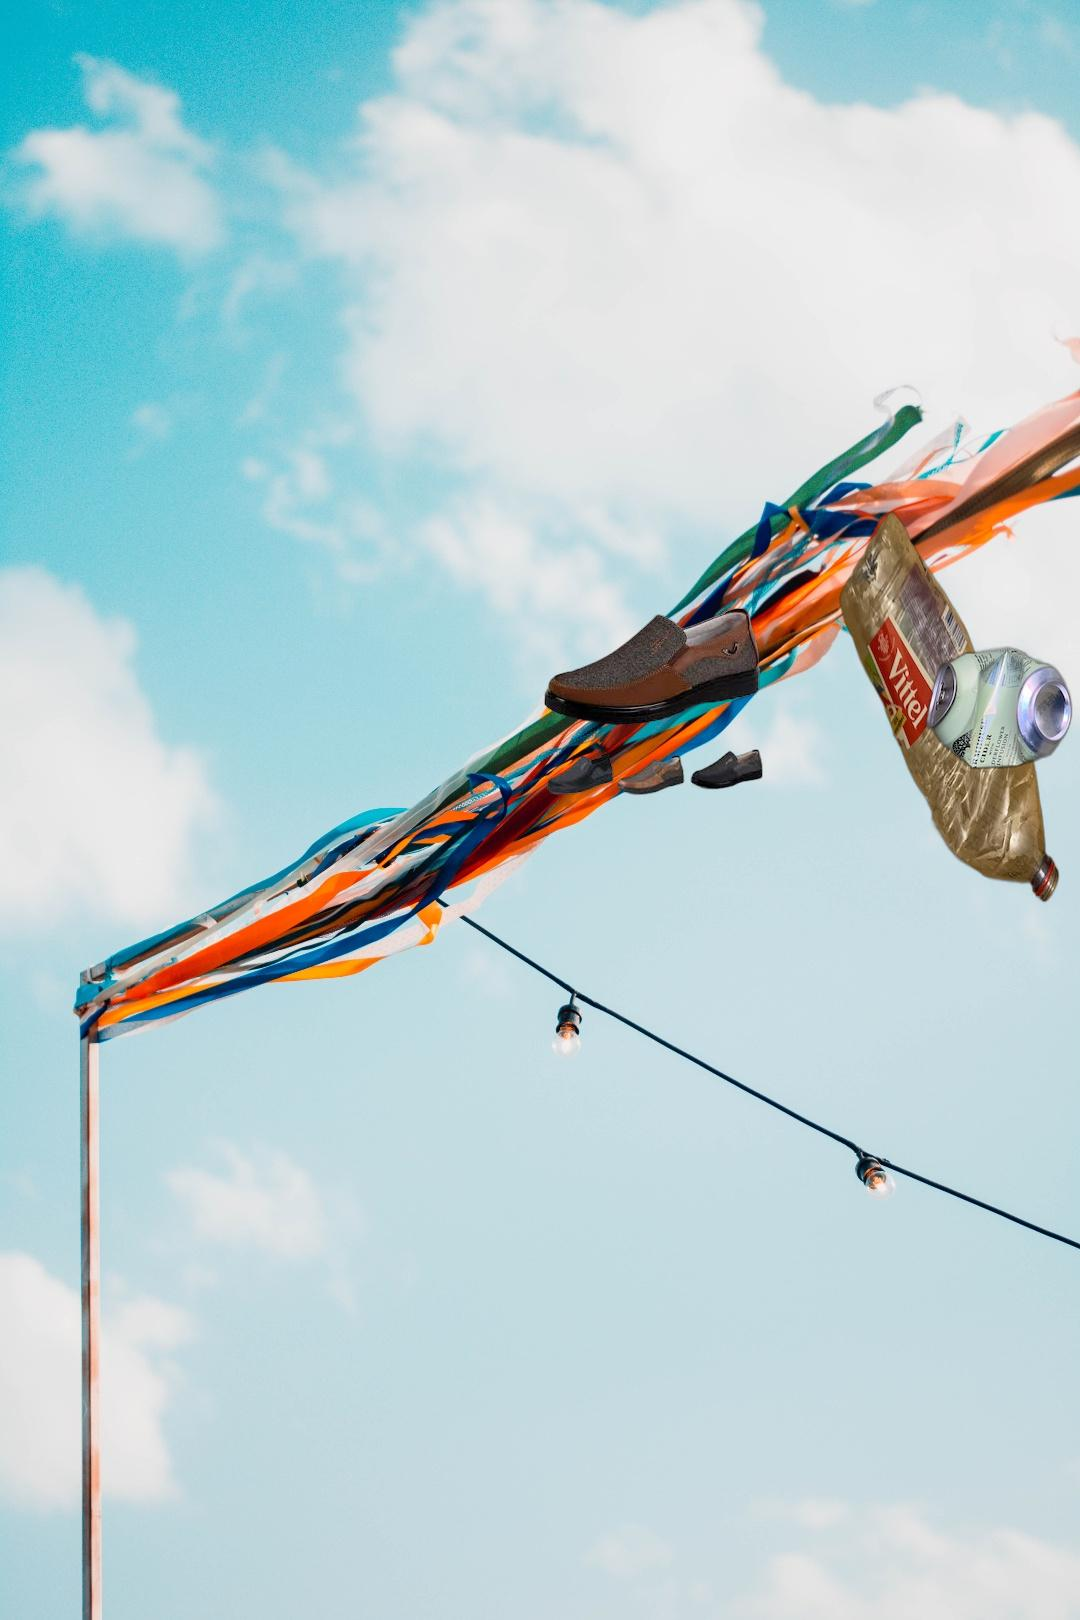metal-cans: (921, 642, 1076, 775)
plastic-bottles: (838, 507, 1060, 906)
shoes: (542, 605, 765, 798)
